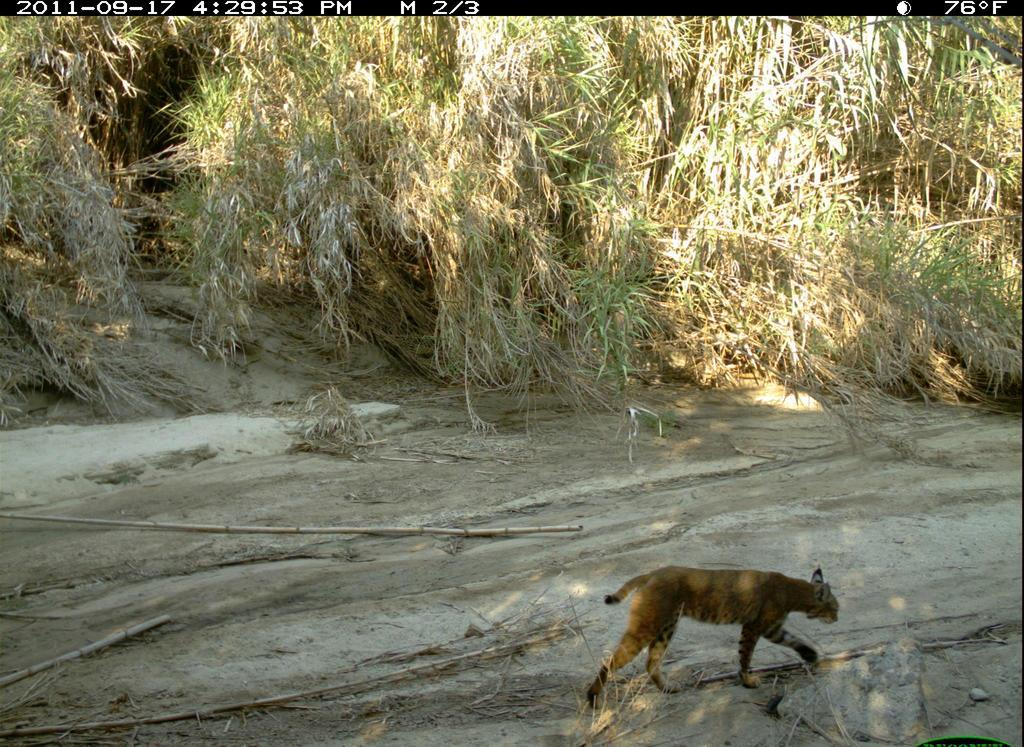bobcat: (584, 560, 844, 716)
